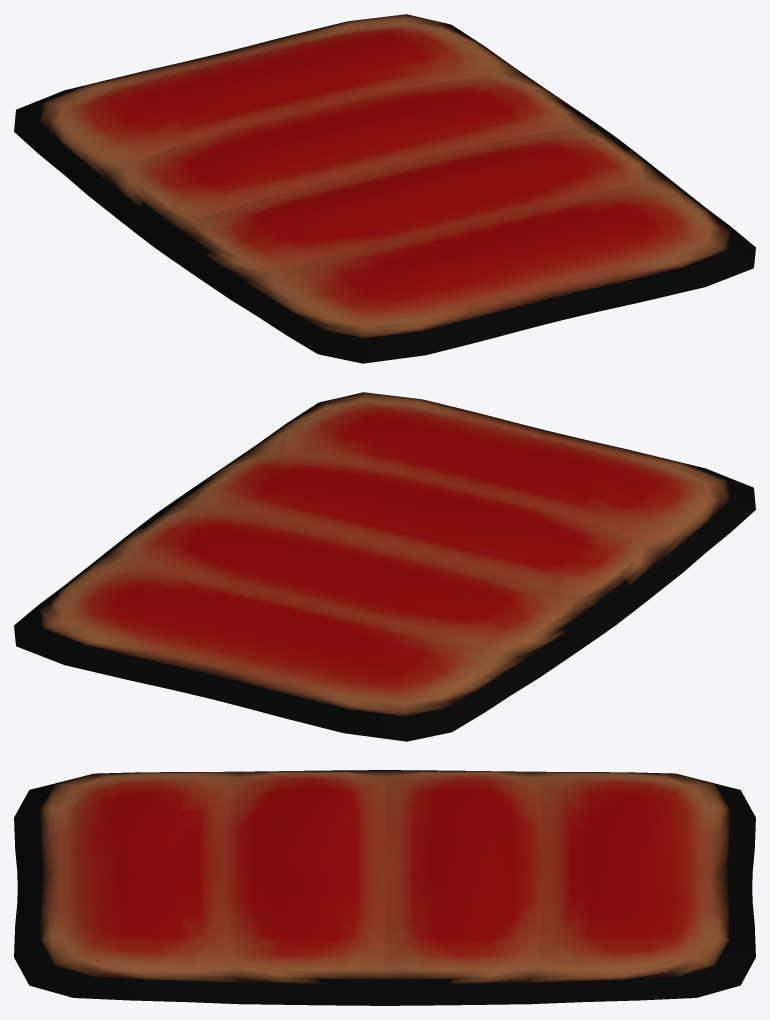
File: CropField.fbx
The picture shows the model from 3 angles, top to bottom: view 1: azimuth 30°, elevation 25°; view 2: azimuth 150°, elevation 25°; view 3: azimuth 270°, elevation 25°; orthographic projection. The views are drawn at different scales.
Visible parts, largest first — view 1: Crop Field; view 2: Crop Field; view 3: Crop Field.
Part boxes in pixels (box(x1,y1,x2,y2)): Crop Field: box(14, 14, 755, 363); Crop Field: box(14, 392, 755, 741); Crop Field: box(14, 770, 755, 1005).
Size of the model in its own units: 6.12 by 0.3116 by 4.49.
